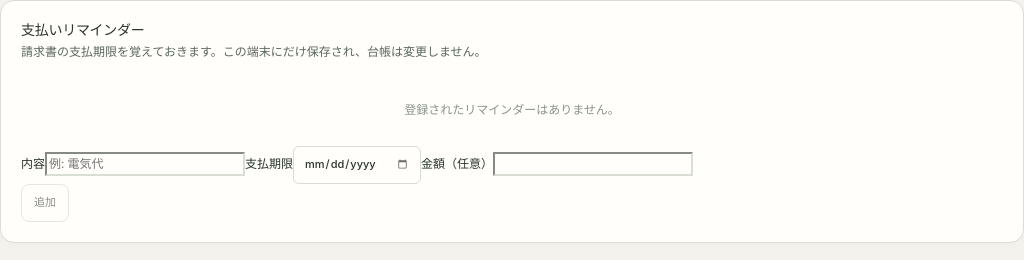
Test: BillRemindersPanel › adds a reminder only when the label and date are valid and the amount is digits
Check: the text "登録されたリマインダーはありません。" is shown, box [404,102,620,117]
Check: the button "追加" is disabled, box [21,184,69,222]
Type "水道代" into the field labelled "内容" at (145, 164), box [45,152,245,176]
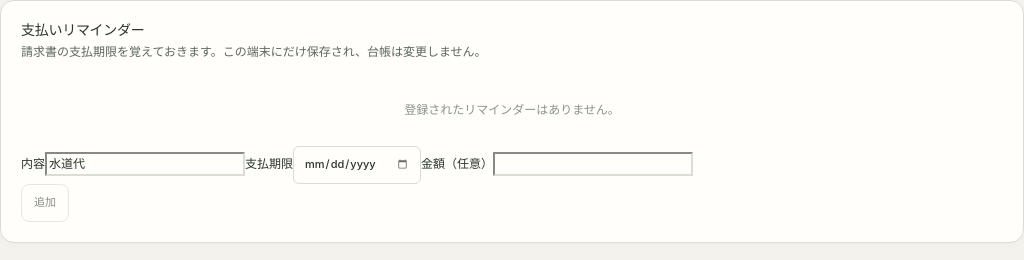
Type "2026-12-28" into the date field labelled "支払期限" at (357, 165), box [293,146,421,184]
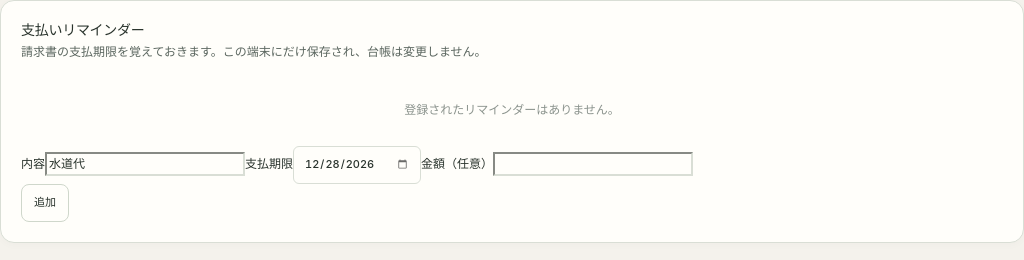
Type "12ab" into the field labelled "金額（任意）" at (593, 164), box [493,152,693,176]
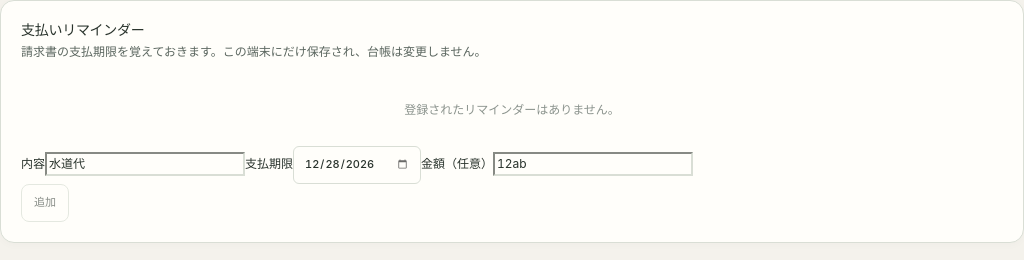
Check: the button "追加" is disabled, box [21,184,69,222]
Replace the text in the field labelled "金額（任意）" with "3000" at (593, 164), box [493,152,693,176]
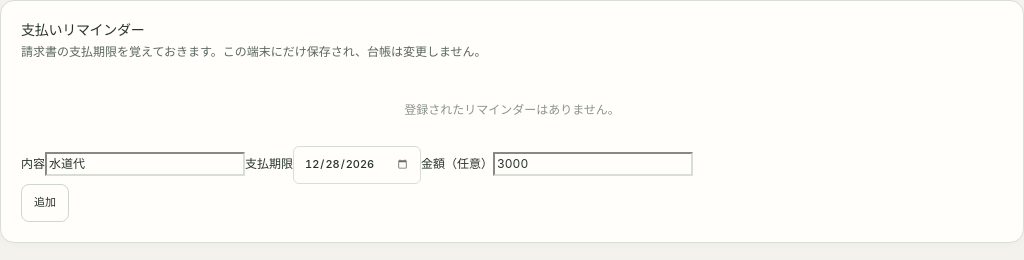
Check: the button "追加" is enabled
Click the button "追加" at (45, 203), box [21,184,69,222]
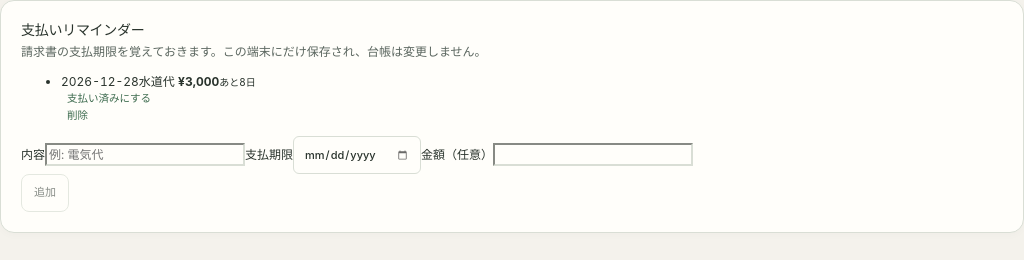
Check: the text "水道代" is shown, box [139,74,175,89]
Check: the field labelled "内容" is empty, box [45,143,245,166]
